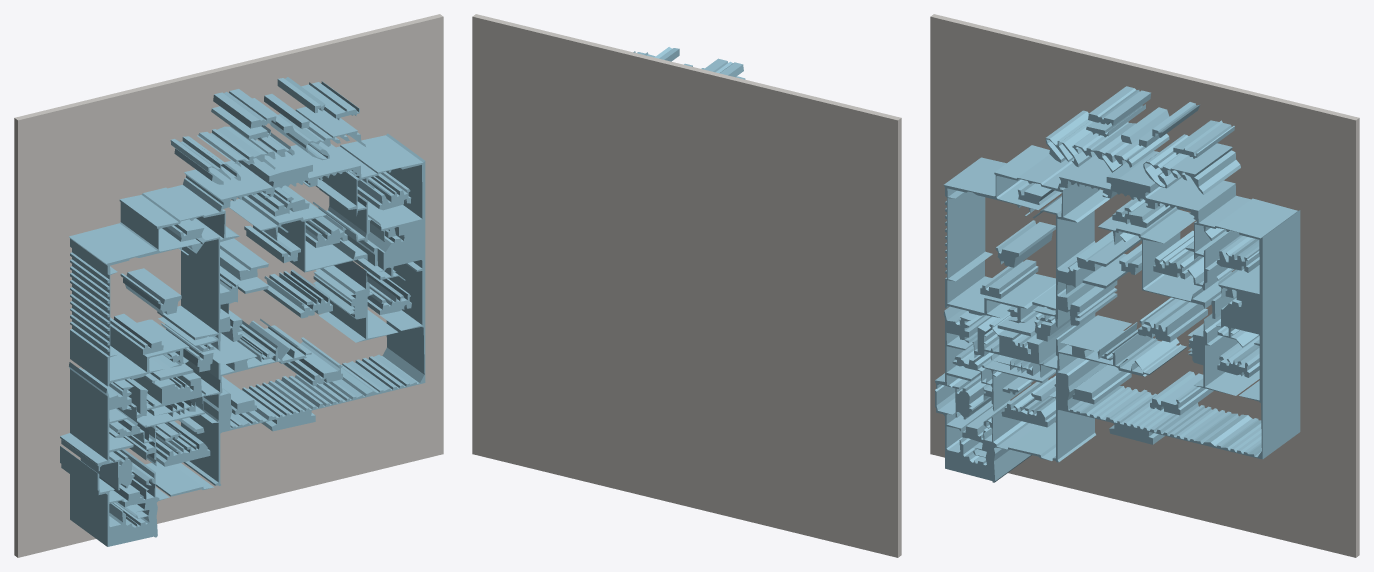
3 views of the same model, side by side, from view 1: azimuth 30°, elevation 25°; view 2: azimuth 150°, elevation 25°; view 3: azimuth 330°, elevation 25° (orthographic).
Parts seen in each view (by area): view 1: world; view 2: world; view 3: world.
Boxes of the visible parts, x1,y1,x2,y2 form: world: [14, 14, 443, 557]; world: [472, 14, 901, 557]; world: [930, 14, 1359, 557].
Size of the model in its own units: 10.23 by 10.05 by 1.71.
